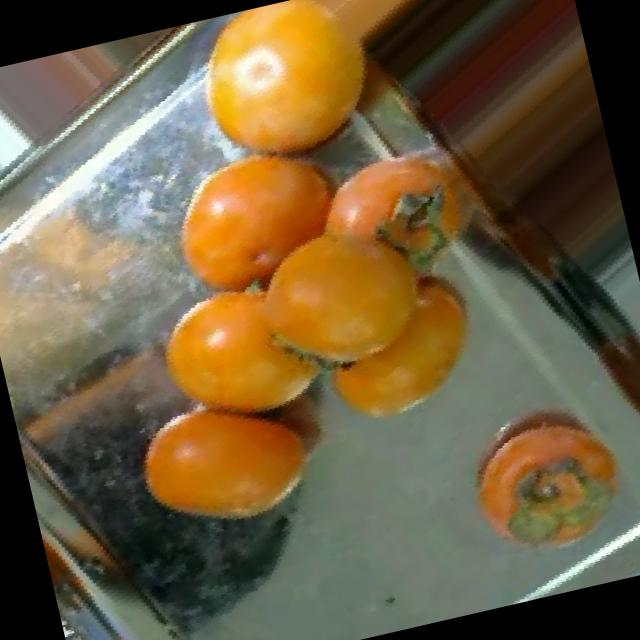Fruit: (274, 220, 524, 458), (100, 363, 346, 568), (431, 369, 640, 600)
